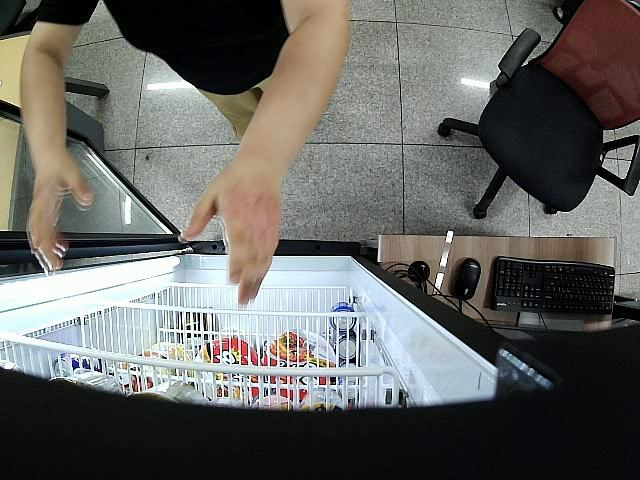00_hand: (177, 165, 286, 304), (27, 157, 95, 273)
